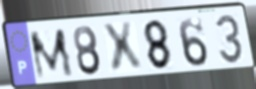3: (212, 13, 245, 66)
6: (177, 16, 210, 68)
8: (142, 18, 173, 72), (72, 24, 102, 78)
M: (27, 26, 76, 82)
X: (100, 20, 145, 76)
